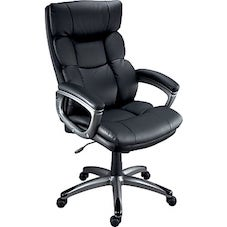chair: (28, 2, 203, 226)
